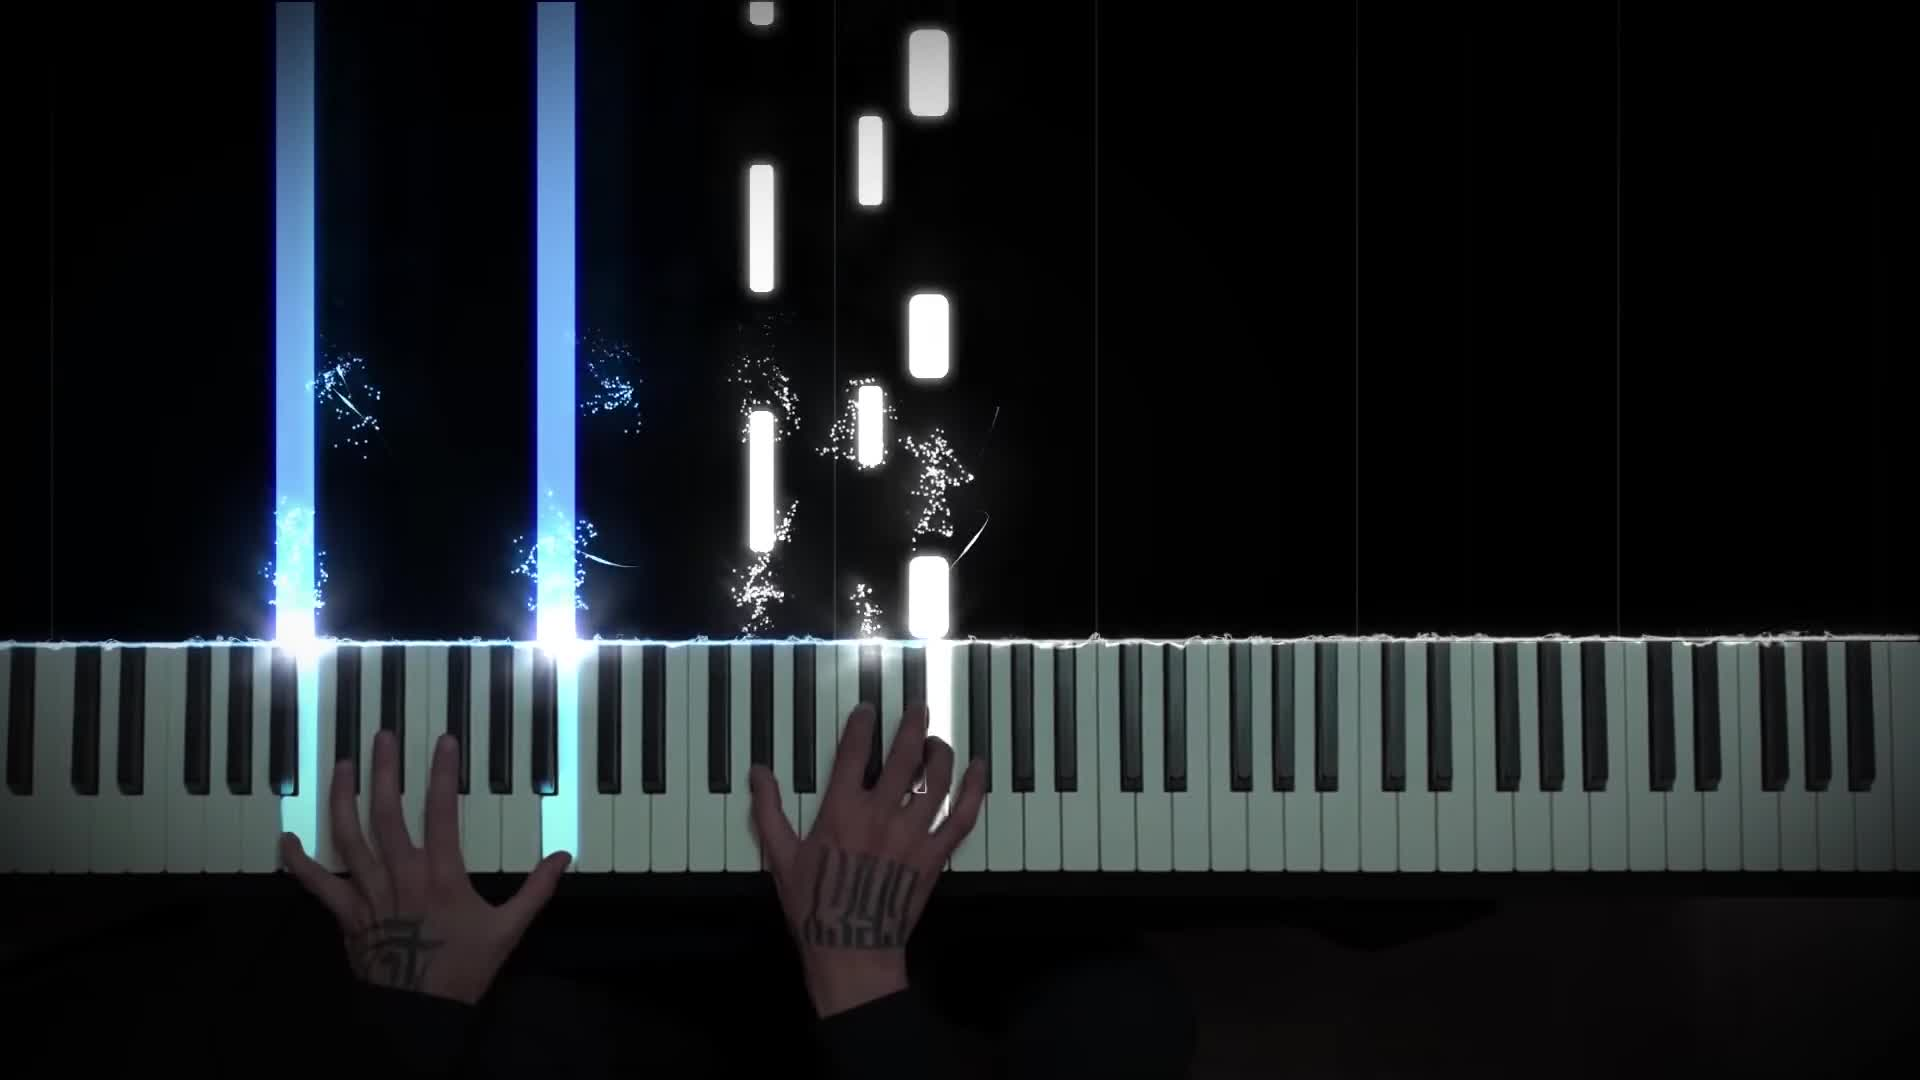left: (273, 727, 574, 1000)
right: (745, 698, 986, 963)
